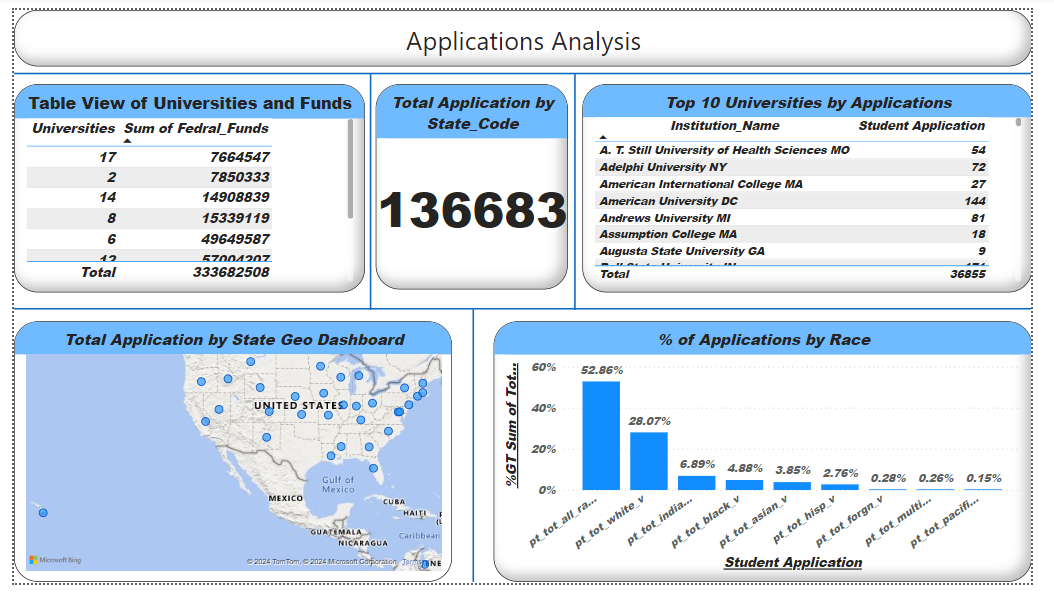

This screenshot's page, from the dashboard's own definition file:
{"tool":"powerbi","page":{"name":"Problem 2A","canvas":[1280,720],"ordinal":0},"visuals":[{"type":"kpi","title":"Total Application by State_Code","fields":{"TrendLine":["state_target.State_Code"],"Indicator":["Sum(university_applications.Total Application)"]},"box":[455.2,93.2,241.3,257.8],"z":0},{"type":"map","title":" Total Application by State Geo Dashboard","fields":{"Size":["Sum(university_applications.Total Application)"],"Category":["state_target.State_Code"]},"box":[0,392.1,551.2,327.7],"z":1000},{"type":"tableEx","title":" Table View of Universities and Funds","fields":{"Values":["state_universities.Universities","Sum(state_universities.Fedral_Funds)"]},"box":[0,93.2,441.5,261.9],"z":2000},{"type":"clusteredColumnChart","title":" % of Applications by Race","fields":{"Category":["university_applications.Student Application"],"Y":["Sum(university_applications.Total Application)"]},"box":[603.3,392.1,677.3,327.7],"z":3000},{"type":"tableEx","title":" Top 10 Universities by Applications","fields":{"Values":["DInstitutionName.Institution_Name","university_applications.Student Application"]},"box":[714.3,93.2,566.2,261.9],"z":4000},{"type":"textbox","box":[0,0,1280.6,71.3],"z":5000},{"type":"shape","box":[0,360.6,1280.6,31.5],"z":6000},{"type":"shape","box":[0,71.3,1280.6,16.5],"z":7000},{"type":"shape","box":[696.5,79.5,17.8,297.5],"z":8000},{"type":"shape","box":[441.5,79.5,13.7,297.5],"z":9000},{"type":"shape","box":[551.2,377,52.1,342.8],"z":10000}]}

Visuals, with their boxes in screenshot pixels (x1, y1, x2, y2), scaled from the page's 1280x720 canvas onto the 1054x605 screenshot:
"Total Application by State_Code" kpi: <box>375,78,574,295</box>
" Total Application by State Geo Dashboard" map: <box>0,329,454,604</box>
" Table View of Universities and Funds" tableEx: <box>0,78,364,298</box>
" % of Applications by Race" clusteredColumnChart: <box>497,329,1053,604</box>
" Top 10 Universities by Applications" tableEx: <box>588,78,1053,298</box>
textbox: <box>0,0,1053,60</box>
shape: <box>0,303,1053,329</box>
shape: <box>0,60,1053,74</box>
shape: <box>574,67,588,317</box>
shape: <box>364,67,375,317</box>
shape: <box>454,317,497,604</box>
